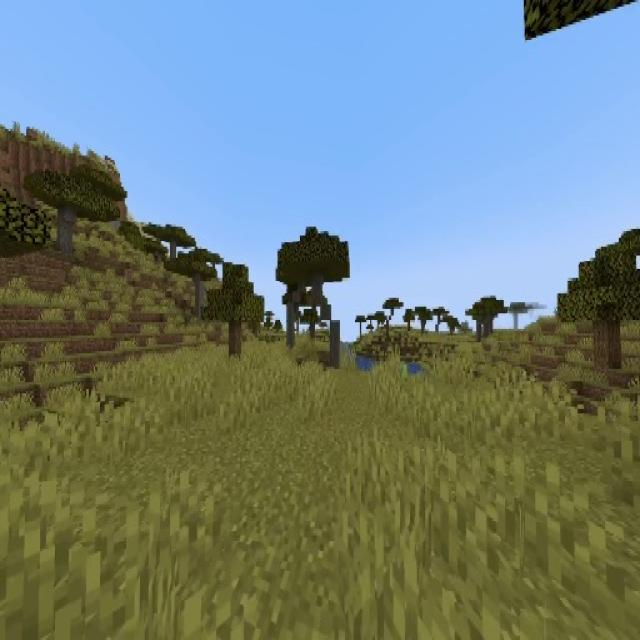acacia: (278, 228, 349, 364), (22, 169, 128, 254), (168, 252, 213, 316)
acacia_log: (57, 209, 74, 248), (329, 320, 340, 366), (312, 278, 322, 302), (322, 303, 332, 320)
oak: (561, 250, 640, 374), (208, 266, 262, 356)
oak_log: (596, 317, 622, 371)
